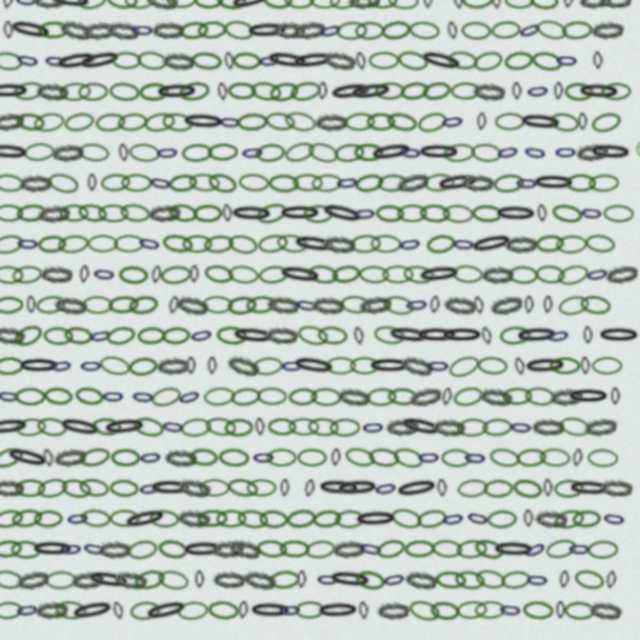chain: (235, 12, 279, 39), (415, 71, 459, 97), (321, 216, 365, 242), (22, 448, 66, 474), (134, 506, 178, 532), (154, 593, 198, 619), (25, 42, 69, 67), (91, 71, 135, 96), (463, 245, 507, 270), (396, 419, 440, 444), (69, 72, 113, 96), (72, 420, 116, 444), (392, 478, 436, 502), (84, 594, 128, 618), (269, 72, 313, 95), (368, 159, 412, 182), (431, 188, 475, 211), (294, 362, 338, 385), (281, 276, 325, 298), (99, 566, 143, 588), (63, 15, 106, 37), (330, 102, 373, 124), (349, 102, 392, 124), (295, 247, 338, 269), (294, 73, 337, 94), (414, 276, 457, 297), (385, 334, 428, 355), (4, 421, 47, 442), (115, 421, 158, 442), (329, 566, 372, 587), (442, 361, 476, 387), (29, 331, 61, 358), (510, 132, 553, 152), (237, 335, 280, 355), (9, 448, 42, 474), (393, 187, 427, 212), (232, 361, 266, 386), (4, 161, 47, 180), (336, 480, 379, 499), (482, 304, 516, 328), (405, 391, 439, 415), (32, 565, 66, 589), (287, 158, 319, 183), (260, 216, 292, 241), (190, 132, 232, 151), (577, 161, 619, 180), (507, 335, 549, 354), (515, 364, 557, 383), (319, 480, 361, 499), (546, 275, 579, 299), (73, 43, 107, 66), (397, 362, 431, 385), (578, 130, 610, 154), (309, 159, 341, 183), (62, 188, 94, 212), (160, 391, 192, 415), (390, 449, 422, 473), (405, 594, 437, 618), (287, 130, 320, 153), (592, 275, 625, 298), (234, 536, 267, 559), (251, 46, 293, 64), (165, 104, 207, 122), (566, 104, 608, 122), (236, 220, 278, 238), (487, 220, 529, 238), (557, 481, 599, 499), (354, 510, 396, 528), (190, 539, 232, 557), (485, 539, 527, 557), (254, 597, 296, 615), (318, 597, 360, 615), (466, 72, 497, 96), (413, 130, 444, 154), (214, 188, 245, 212), (526, 43, 558, 66), (394, 72, 426, 95), (292, 101, 324, 124), (299, 333, 331, 356), (111, 362, 143, 385), (447, 391, 479, 414), (143, 420, 175, 443), (548, 420, 580, 443), (92, 449, 124, 472), (344, 449, 376, 472), (52, 478, 84, 501), (388, 507, 420, 530), (535, 536, 567, 559), (144, 565, 176, 588), (468, 565, 500, 588), (562, 565, 594, 588), (155, 15, 188, 37), (184, 305, 217, 327), (248, 566, 281, 588), (5, 104, 47, 121), (414, 162, 456, 179), (523, 191, 565, 208), (282, 220, 324, 237), (412, 336, 454, 353), (436, 336, 478, 353), (585, 336, 627, 353), (34, 365, 76, 382), (367, 365, 409, 382), (556, 394, 598, 411), (159, 481, 201, 498), (47, 539, 89, 556), (90, 14, 121, 37), (374, 536, 405, 559), (467, 536, 498, 559), (547, 305, 579, 327), (543, 508, 575, 530), (567, 15, 600, 36), (295, 44, 328, 65), (324, 73, 357, 94), (9, 131, 42, 152), (564, 160, 597, 181), (358, 305, 391, 326), (572, 421, 605, 442), (68, 450, 101, 471), (186, 479, 219, 500), (522, 73, 553, 95), (49, 131, 80, 153), (78, 131, 109, 153), (154, 131, 185, 153), (384, 131, 415, 153), (541, 218, 572, 240), (10, 247, 41, 269), (233, 247, 264, 269), (381, 305, 412, 327), (482, 450, 513, 472), (75, 479, 106, 501), (10, 508, 41, 530), (413, 508, 444, 530), (138, 537, 169, 559), (167, 566, 198, 588), (354, 566, 385, 588), (273, 102, 303, 124), (539, 131, 569, 153), (354, 189, 384, 211), (118, 334, 148, 356), (504, 479, 534, 501), (330, 15, 361, 36), (230, 44, 261, 65), (147, 73, 178, 94), (442, 73, 473, 94), (30, 102, 61, 123), (187, 102, 218, 123), (255, 102, 286, 123), (131, 218, 162, 239), (171, 247, 202, 268), (262, 247, 293, 268), (280, 247, 311, 268), (309, 276, 340, 297), (51, 305, 82, 326), (568, 305, 599, 326), (372, 334, 403, 355), (52, 421, 83, 442), (212, 421, 243, 442), (367, 450, 398, 471), (92, 479, 123, 500), (233, 479, 264, 500), (28, 508, 59, 529), (10, 566, 41, 587), (513, 536, 540, 560), (348, 16, 380, 36), (96, 45, 128, 65), (119, 45, 151, 65), (66, 161, 98, 181), (53, 219, 85, 239), (69, 306, 101, 326), (439, 306, 471, 326), (338, 393, 370, 413), (473, 393, 505, 413), (540, 393, 572, 413), (85, 567, 117, 587), (126, 567, 158, 587), (402, 567, 434, 587), (577, 596, 609, 616), (379, 44, 409, 65), (496, 73, 526, 94), (397, 102, 427, 123), (418, 102, 448, 123), (269, 131, 299, 152), (91, 218, 121, 239), (177, 218, 207, 239), (422, 247, 452, 268), (573, 247, 603, 268), (211, 276, 241, 297), (332, 276, 362, 297), (139, 305, 169, 326), (88, 392, 118, 413), (289, 508, 319, 529), (167, 537, 197, 558), (508, 43, 535, 66), (10, 74, 41, 94), (171, 132, 202, 152), (140, 161, 171, 181), (439, 161, 470, 181), (72, 248, 103, 268), (400, 277, 431, 297), (236, 393, 267, 413), (307, 538, 338, 558), (449, 567, 480, 587), (49, 16, 81, 35), (579, 45, 611, 64), (158, 219, 190, 238), (271, 306, 303, 325), (10, 335, 42, 354), (166, 364, 198, 383), (384, 422, 416, 441), (186, 509, 218, 528), (218, 538, 250, 557), (333, 538, 365, 557), (51, 596, 83, 615), (119, 16, 149, 36), (386, 16, 416, 36), (520, 16, 550, 36), (406, 45, 436, 65), (199, 74, 229, 94), (121, 103, 151, 123), (32, 132, 62, 152), (108, 132, 138, 152), (129, 132, 159, 152), (92, 161, 122, 181), (260, 161, 290, 181), (335, 161, 365, 181), (465, 161, 495, 181), (11, 190, 41, 210), (177, 190, 207, 210), (486, 190, 516, 210), (211, 248, 241, 268), (29, 277, 59, 297), (170, 277, 200, 297), (234, 277, 264, 297), (263, 277, 293, 297), (139, 364, 169, 384), (257, 364, 287, 384), (32, 422, 62, 442), (189, 422, 219, 442), (452, 480, 482, 500), (243, 509, 273, 529), (314, 509, 344, 529), (493, 567, 523, 587), (141, 596, 171, 616), (186, 596, 216, 616), (211, 393, 242, 412), (223, 16, 252, 36), (188, 45, 217, 65), (233, 306, 262, 326), (78, 335, 107, 355), (426, 596, 455, 616), (324, 249, 356, 267), (319, 44, 345, 66), (185, 392, 211, 414), (551, 45, 581, 64), (345, 132, 375, 151), (40, 161, 70, 180), (197, 190, 227, 209), (244, 190, 274, 209), (420, 190, 450, 209), (33, 219, 63, 238), (416, 219, 446, 238), (350, 248, 380, 267), (447, 277, 477, 296), (120, 306, 150, 325), (251, 306, 281, 325), (341, 306, 371, 325), (223, 335, 253, 354), (319, 335, 349, 354), (492, 335, 522, 354), (11, 364, 41, 383), (471, 364, 501, 383), (516, 393, 546, 412), (310, 422, 340, 441), (225, 451, 255, 470), (508, 451, 538, 470), (530, 451, 560, 470), (94, 509, 124, 528), (261, 538, 291, 557), (428, 538, 458, 557), (451, 538, 481, 557), (273, 567, 303, 586), (70, 596, 100, 615), (215, 596, 245, 615), (451, 596, 481, 615), (514, 596, 544, 615), (172, 75, 203, 93), (52, 104, 83, 122), (74, 104, 105, 122), (467, 104, 498, 122), (317, 133, 348, 151), (36, 191, 67, 209), (497, 249, 528, 267), (475, 278, 506, 296), (314, 307, 345, 325), (429, 423, 460, 441), (174, 452, 205, 470), (526, 510, 557, 528), (111, 539, 142, 557), (376, 597, 407, 615), (267, 16, 296, 35), (205, 45, 234, 64), (484, 45, 513, 64), (113, 190, 142, 209), (526, 248, 555, 267), (526, 277, 555, 296), (59, 393, 88, 412), (105, 422, 134, 441), (197, 451, 226, 470), (11, 538, 40, 557), (147, 247, 173, 268), (459, 508, 485, 529), (136, 17, 166, 35), (337, 46, 367, 64), (190, 162, 220, 180), (438, 220, 468, 238), (546, 249, 576, 267), (11, 278, 41, 296), (452, 423, 482, 441), (476, 423, 506, 441), (480, 510, 510, 528), (61, 568, 91, 586), (431, 568, 461, 586), (587, 17, 618, 34), (162, 46, 193, 63), (277, 46, 308, 63), (456, 191, 487, 208), (56, 278, 87, 295), (270, 336, 301, 353), (523, 423, 554, 440), (10, 481, 41, 498), (588, 481, 619, 498), (220, 568, 251, 585), (32, 73, 57, 94), (488, 160, 513, 181), (573, 276, 598, 297), (197, 334, 222, 355), (95, 537, 120, 558), (358, 537, 383, 558), (380, 566, 405, 587), (457, 17, 486, 35), (456, 46, 485, 64), (238, 75, 267, 93), (92, 104, 121, 122), (589, 104, 618, 122), (243, 133, 272, 151), (273, 191, 302, 209), (314, 191, 343, 209), (376, 191, 405, 209), (577, 191, 606, 209), (306, 220, 335, 238), (374, 220, 403, 238), (466, 220, 495, 238), (591, 220, 620, 238), (53, 249, 82, 267), (130, 278, 159, 296), (359, 278, 388, 296), (11, 307, 40, 325), (59, 336, 88, 354), (171, 336, 200, 354), (313, 394, 342, 412), (366, 394, 395, 412), (386, 394, 415, 412), (331, 423, 360, 441), (437, 452, 466, 470), (576, 452, 605, 470), (477, 481, 506, 499), (544, 481, 573, 499), (561, 510, 590, 528), (28, 539, 57, 557), (576, 539, 605, 557), (11, 597, 40, 615), (554, 597, 583, 615), (381, 278, 411, 295), (355, 46, 383, 64), (150, 104, 178, 122), (554, 104, 582, 122), (501, 278, 529, 296), (148, 336, 176, 354), (292, 394, 320, 412), (231, 423, 259, 441), (122, 481, 150, 499), (50, 510, 78, 528), (160, 510, 188, 528), (264, 510, 292, 528), (336, 510, 364, 528), (514, 161, 539, 181), (158, 190, 183, 210), (395, 248, 420, 268), (297, 306, 322, 326), (101, 335, 126, 355), (536, 335, 561, 355), (148, 480, 173, 500), (372, 480, 397, 500), (436, 509, 461, 529), (589, 509, 614, 529), (176, 17, 205, 34), (288, 17, 317, 34), (312, 17, 341, 34), (367, 17, 396, 34), (497, 17, 526, 34), (54, 46, 83, 63), (368, 75, 397, 92), (374, 104, 403, 121), (446, 104, 475, 121), (488, 133, 517, 150), (215, 162, 244, 179), (133, 191, 162, 208), (296, 191, 325, 208), (555, 191, 584, 208), (111, 220, 140, 237), (395, 220, 424, 237), (101, 249, 130, 266), (126, 249, 155, 266), (191, 249, 220, 266), (370, 249, 399, 266), (96, 307, 125, 324), (210, 307, 239, 324), (327, 365, 356, 382), (350, 365, 379, 382), (540, 365, 569, 382), (580, 365, 609, 382), (32, 394, 61, 411), (262, 394, 291, 411), (495, 394, 524, 411), (292, 423, 321, 440), (271, 452, 300, 469), (300, 452, 329, 469), (32, 481, 61, 498), (207, 481, 236, 498), (252, 481, 281, 498), (122, 510, 151, 527), (205, 510, 234, 527), (223, 510, 252, 527), (283, 539, 312, 556), (402, 539, 431, 556), (298, 597, 327, 614), (469, 597, 498, 614), (202, 17, 230, 34), (124, 75, 152, 92), (234, 104, 262, 121), (366, 133, 394, 150), (354, 162, 382, 179), (12, 220, 40, 237), (74, 220, 102, 237), (201, 220, 229, 237), (272, 423, 300, 440), (123, 452, 151, 469), (170, 422, 195, 441), (262, 74, 286, 93), (517, 103, 541, 122), (436, 132, 460, 151), (336, 190, 360, 209), (568, 219, 592, 238), (105, 277, 129, 296), (402, 306, 426, 325), (64, 364, 88, 383), (14, 393, 38, 412), (149, 451, 173, 470), (80, 509, 104, 528), (32, 596, 56, 615), (491, 596, 515, 615), (31, 17, 55, 35), (59, 75, 83, 93), (165, 162, 189, 180), (246, 162, 270, 180), (396, 162, 420, 180), (142, 394, 166, 412), (501, 423, 525, 441), (225, 133, 248, 151), (507, 191, 530, 209), (353, 220, 376, 238), (447, 249, 470, 267), (361, 423, 384, 441), (458, 452, 481, 470), (517, 568, 540, 586), (142, 46, 165, 63), (545, 75, 568, 92), (544, 162, 567, 179), (33, 249, 56, 266), (93, 365, 116, 382), (284, 365, 307, 382), (423, 365, 446, 382), (114, 394, 137, 411), (257, 452, 280, 469), (414, 452, 437, 469), (74, 539, 97, 556), (557, 539, 580, 556), (318, 568, 341, 585), (282, 597, 305, 614), (474, 336, 487, 354), (124, 597, 137, 615), (442, 46, 454, 64), (230, 75, 242, 93), (355, 75, 367, 93), (177, 307, 189, 325), (467, 307, 479, 325), (353, 336, 365, 354), (506, 365, 518, 383), (58, 452, 70, 470), (306, 481, 318, 499), (20, 17, 31, 35), (448, 17, 459, 35), (484, 17, 495, 35), (224, 104, 235, 122), (130, 162, 141, 180), (161, 278, 172, 296), (437, 394, 448, 412), (561, 452, 572, 470), (593, 568, 604, 586), (358, 597, 369, 615), (553, 17, 563, 34), (21, 46, 31, 63), (581, 75, 591, 92), (504, 104, 514, 121), (229, 220, 239, 237), (528, 220, 538, 237), (93, 278, 103, 295), (426, 307, 436, 324), (569, 365, 579, 382), (260, 423, 270, 440), (332, 452, 342, 469), (433, 481, 443, 498), (515, 510, 525, 527), (549, 568, 559, 585), (244, 597, 254, 614), (420, 17, 429, 34), (320, 104, 329, 121), (544, 104, 553, 121), (471, 133, 480, 150), (567, 133, 576, 150), (101, 191, 110, 208), (198, 278, 207, 295), (43, 307, 52, 324), (516, 307, 525, 324), (534, 307, 543, 324), (572, 336, 581, 353), (195, 365, 204, 382), (215, 365, 224, 382), (598, 394, 607, 411), (284, 481, 293, 498), (534, 481, 543, 498), (203, 568, 212, 585), (300, 568, 309, 585), (546, 597, 555, 614)
noise: (620, 157, 640, 177), (625, 491, 640, 511)
